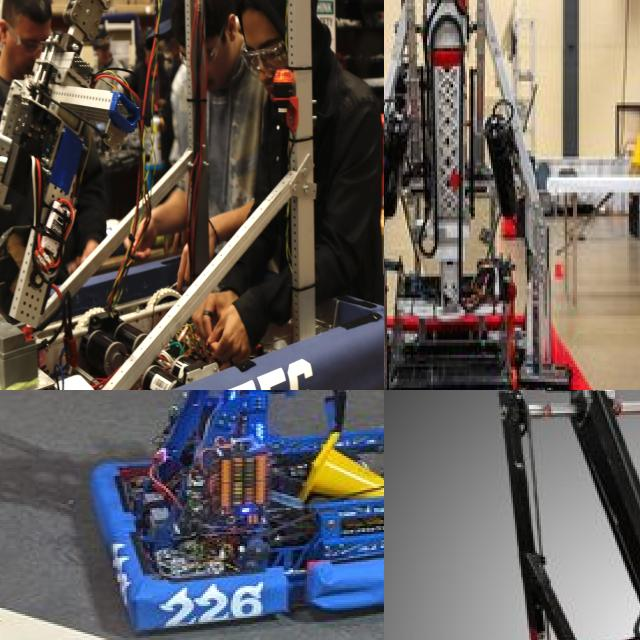FRC-Robots: (0, 0, 384, 390), (384, 0, 640, 390), (29, 390, 384, 622), (436, 390, 640, 640)
